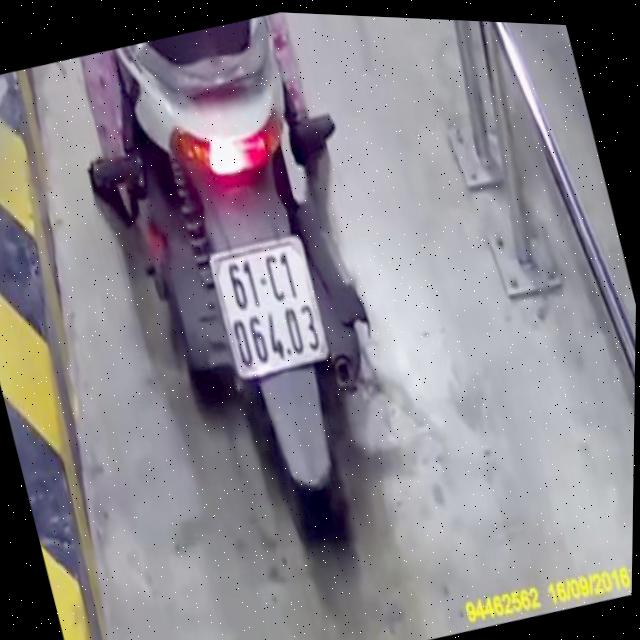motorcycle: (60, 3, 444, 597)
plate: (192, 221, 336, 392)
